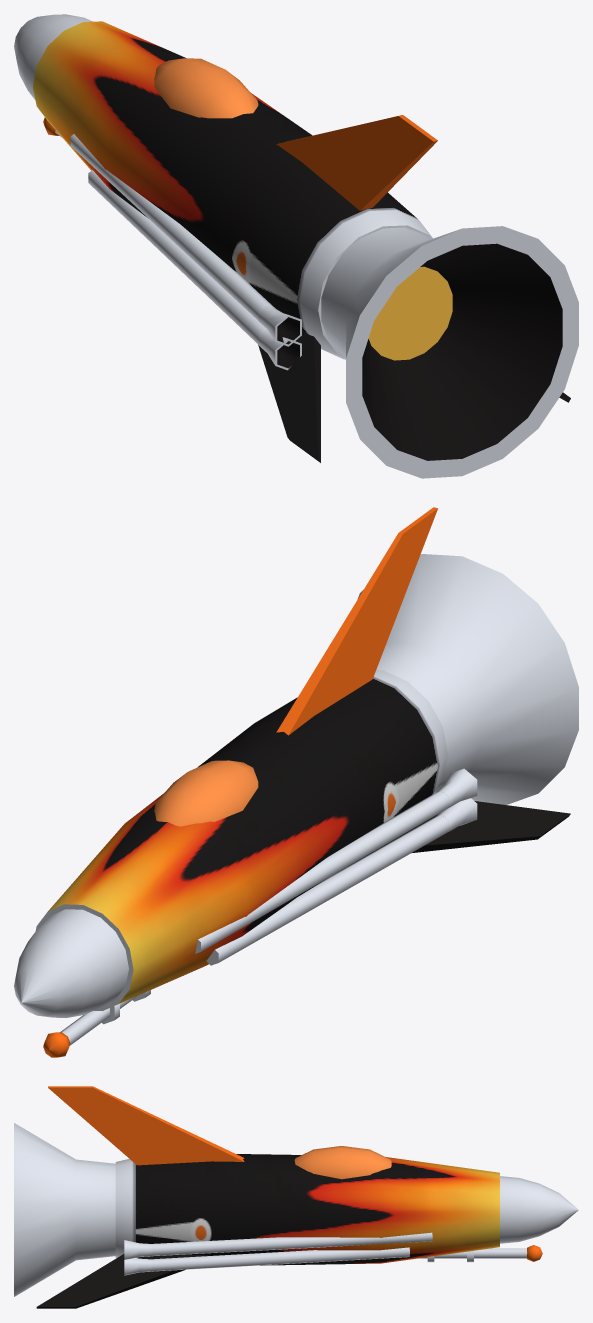
File: hotrod.obj
The picture shows the model from 3 angles, top to bottom: view 1: azimuth 30°, elevation 25°; view 2: azimuth 150°, elevation 25°; view 3: azimuth 270°, elevation 25°; orthographic projection. The views are drawn at different scales.
Parts seen in each view (by area): view 1: bell, hull, fin_top, pipe, canopy, fin235, pipe_tip; view 2: hull, bell, fin_top, pipe, canopy, fin235, pipe_tip, gun; view 3: hull, bell, fin_top, pipe, fin125, canopy, pipe_tip, gun.
Boxes of the visible parts, <box> form: bell: <box>321,226,578,478</box>; hull: <box>14,14,432,359</box>; fin_top: <box>276,115,437,210</box>; pipe: <box>70,134,275,344</box>; canopy: <box>154,58,258,118</box>; fin235: <box>258,330,320,462</box>; pipe_tip: <box>258,305,301,370</box>; hull: <box>14,670,447,1017</box>; bell: <box>357,554,578,804</box>; fin_top: <box>276,507,437,735</box>; pipe: <box>195,790,449,965</box>; canopy: <box>154,760,258,826</box>; fin235: <box>367,801,570,855</box>; pipe_tip: <box>436,768,477,830</box>; gun: <box>60,995,138,1045</box>; hull: <box>115,1154,578,1265</box>; bell: <box>14,1123,115,1296</box>; fin_top: <box>48,1086,244,1165</box>; pipe: <box>152,1232,432,1271</box>; fin125: <box>36,1254,212,1308</box>; canopy: <box>294,1146,391,1179</box>; pipe_tip: <box>124,1240,152,1275</box>; gun: <box>418,1248,527,1258</box>.
Size of the model in its own units: 3.31 by 3.95 by 10.
Materials: 7 (1 with a texture image).
